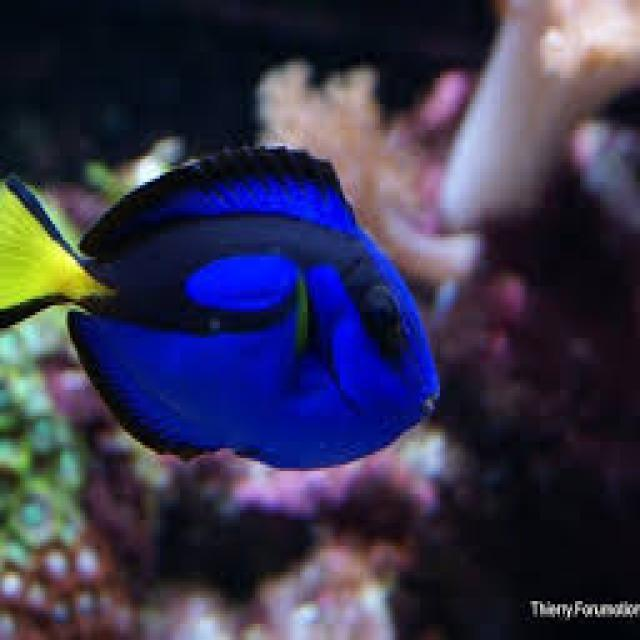TangFish: (0, 137, 442, 474)
